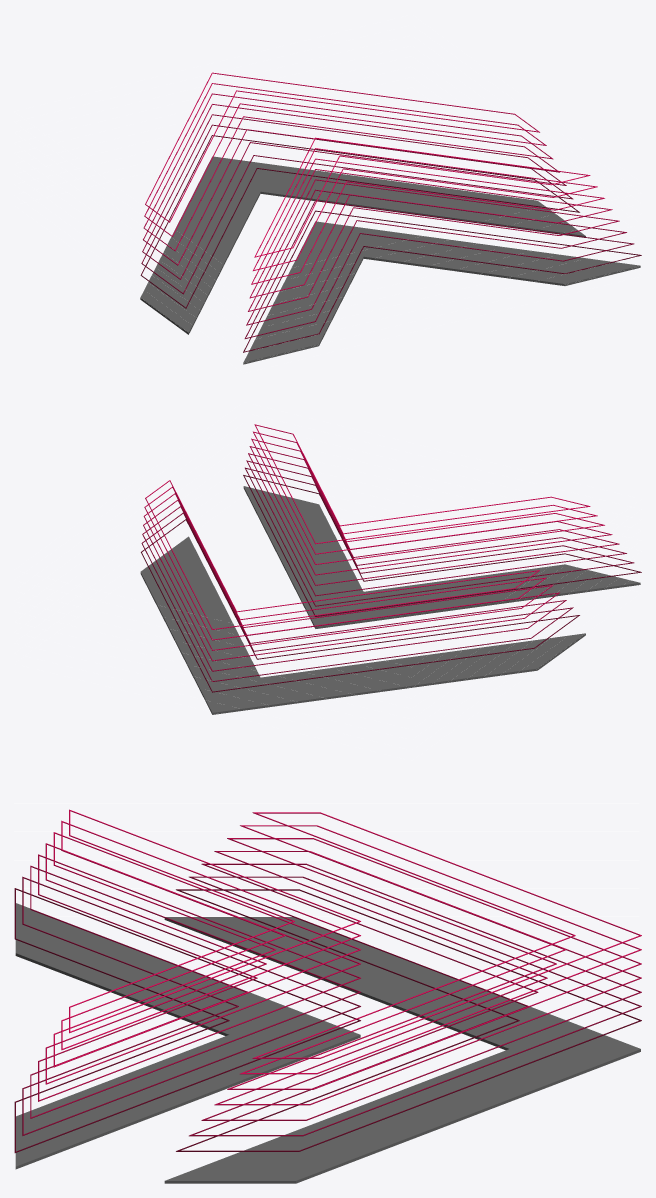
The model's file is gyorin01.glb.
The picture shows the model from 3 angles, top to bottom: view 1: azimuth 30°, elevation 25°; view 2: azimuth 150°, elevation 25°; view 3: azimuth 270°, elevation 25°; orthographic projection. The views are drawn at different scales.
Visible parts, largest first — view 1: 押し出し, 押し出し.1, スイープ.14, スイープ.12, スイープ.10, スイープ.11, スイープ.9, スイープ.8, スイープ.7, スイープ.6, スイープ.4, スイープ.13 (+5 smaller); view 2: 押し出し, 押し出し.1, スイープ.14, スイープ.13, スイープ.12, スイープ.8, スイープ.10, スイープ.9, スイープ.7, スイープ.6, スイープ.5, スイープ.4 (+5 smaller); view 3: 押し出し, 押し出し.1, スイープ.14, スイープ.12, スイープ.10, スイープ.13, スイープ.9, スイープ.8, スイープ.11, スイープ.7, スイープ.6, スイープ.4 (+8 smaller).
Boxes of the visible parts, x1=… form: 押し出し: x1=140, y1=156, x2=585, y2=334; 押し出し.1: x1=243, y1=221, x2=640, y2=364; スイープ.14: x1=140, y1=135, x2=579, y2=308; スイープ.12: x1=142, y1=114, x2=566, y2=279; スイープ.10: x1=143, y1=93, x2=553, y2=251; スイープ.11: x1=143, y1=104, x2=559, y2=265; スイープ.9: x1=144, y1=83, x2=546, y2=236; スイープ.8: x1=145, y1=72, x2=539, y2=222; スイープ.7: x1=243, y1=210, x2=641, y2=352; スイープ.6: x1=244, y1=200, x2=634, y2=338; スイープ.4: x1=248, y1=179, x2=619, y2=311; スイープ.13: x1=141, y1=124, x2=573, y2=294; 押し出し: x1=140, y1=536, x2=585, y2=714; 押し出し.1: x1=243, y1=486, x2=640, y2=628; スイープ.14: x1=141, y1=519, x2=579, y2=692; スイープ.13: x1=141, y1=513, x2=573, y2=681; スイープ.12: x1=142, y1=506, x2=566, y2=671; スイープ.8: x1=145, y1=480, x2=539, y2=629; スイープ.10: x1=143, y1=493, x2=553, y2=650; スイープ.9: x1=144, y1=486, x2=546, y2=640; スイープ.7: x1=243, y1=475, x2=641, y2=616; スイープ.6: x1=245, y1=467, x2=634, y2=606; スイープ.5: x1=246, y1=460, x2=626, y2=596; スイープ.4: x1=248, y1=453, x2=619, y2=585; 押し出し: x1=164, y1=917, x2=640, y2=1183; 押し出し.1: x1=15, y1=903, x2=360, y2=1169; スイープ.14: x1=176, y1=889, x2=641, y2=1151; スイープ.12: x1=201, y1=863, x2=641, y2=1120; スイープ.10: x1=227, y1=838, x2=641, y2=1089; スイープ.13: x1=189, y1=876, x2=641, y2=1136; スイープ.9: x1=240, y1=825, x2=641, y2=1074; スイープ.8: x1=252, y1=812, x2=641, y2=1058; スイープ.11: x1=214, y1=851, x2=641, y2=1105; スイープ.7: x1=14, y1=888, x2=360, y2=1152; スイープ.6: x1=22, y1=876, x2=360, y2=1135; スイープ.4: x1=38, y1=854, x2=360, y2=1101.
Bounding box in the file's own units: 0.0201 × 0.00462 × 0.0201.
